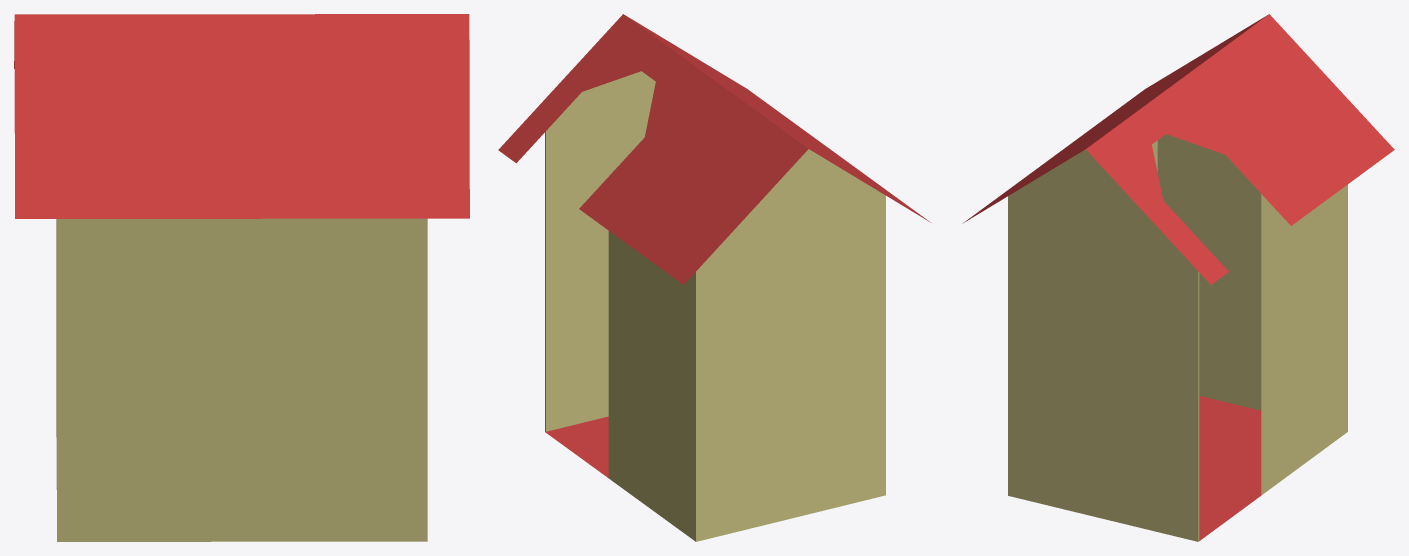
The picture shows the model from 3 angles, left to right: view 1: azimuth 30°, elevation 25°; view 2: azimuth 150°, elevation 25°; view 3: azimuth 270°, elevation 25°; orthographic projection. The views are drawn at different scales.
Size of the model in its own units: 20.29 by 18.98 by 18.44.
